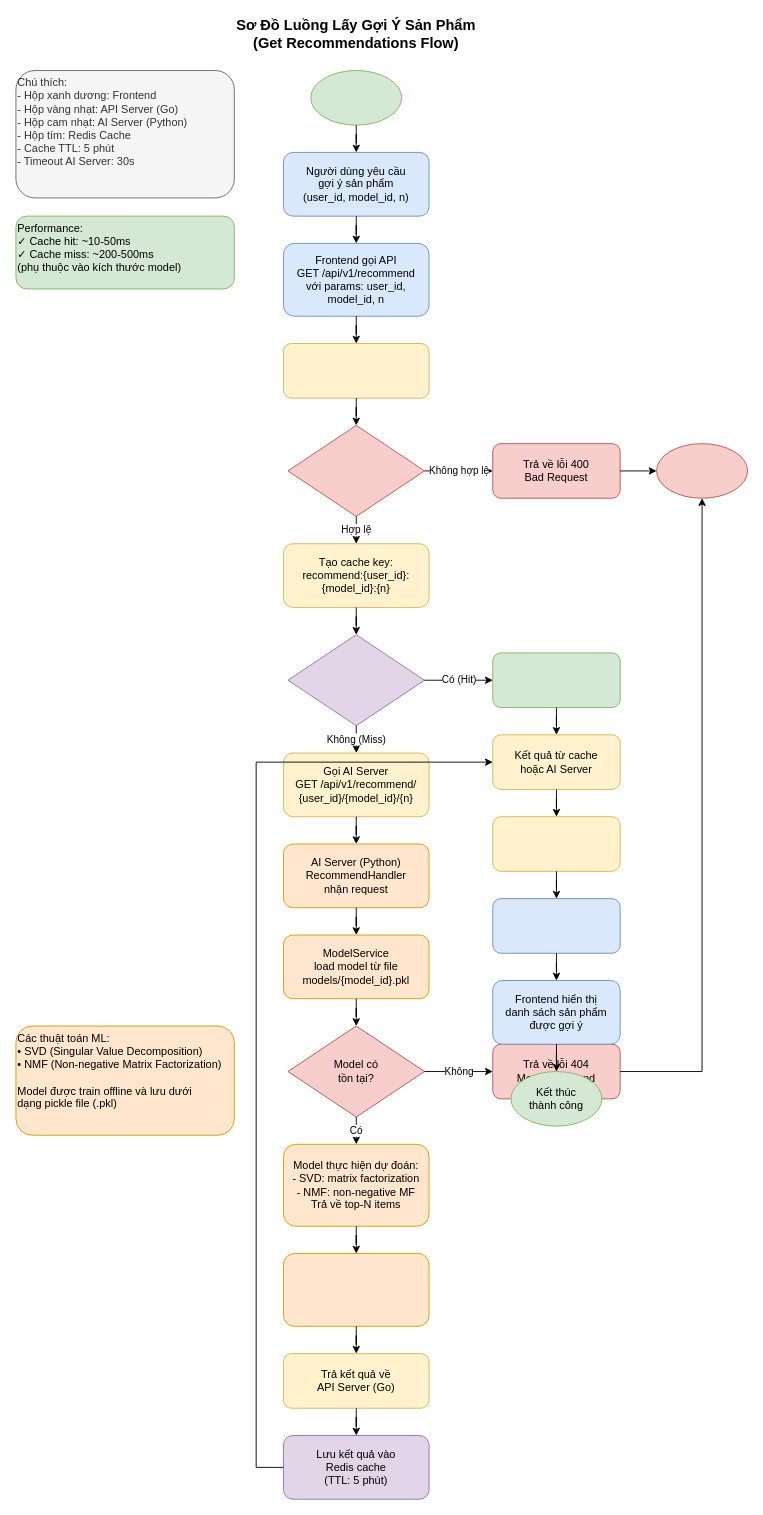
This 763x1515 diagram has some shape labels left out. The centre of each missing label's shape, as x and y in pixels:
"API Server (Go) nhận request" belongs at point 356,370.
"Bắt đầu" belongs at point 356,97.
"Format kết quả JSON: - recommended_items: [...] - model_id, user_id - timestamp" belongs at point 356,1289.
"Kiểm tra Redis có dữ liệu cache?" belongs at point 356,680.
"Kiểm tra tham số user_id và model_id có hợp lệ?" belongs at point 356,470.
"Kết thúc có lỗi" belongs at point 702,470.
"Lấy dữ liệu từ cache (cache hit) ⚡ Nhanh!" belongs at point 556,680.
"Parse JSON response" belongs at point 556,843.
"Trả kết quả JSON về Frontend" belongs at point 556,925.
